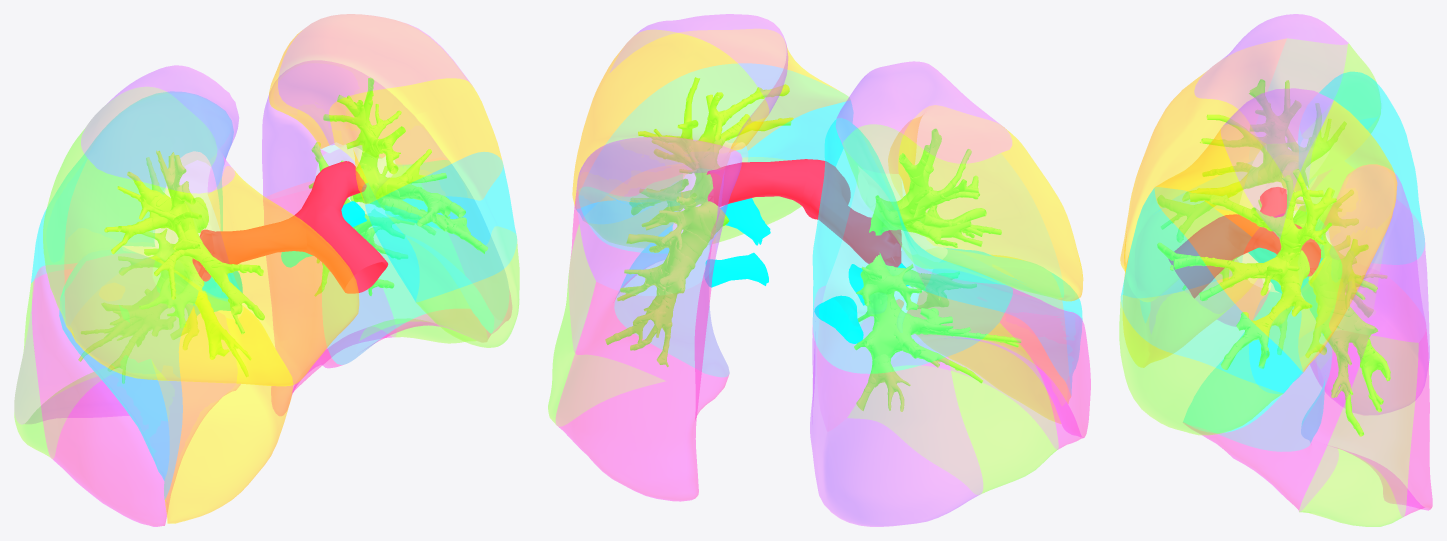
The model's file is lunge-female-mobil.glb.
The picture shows the model from 3 angles, left to right: view 1: azimuth 30°, elevation 25°; view 2: azimuth 150°, elevation 25°; view 3: azimuth 270°, elevation 25°; orthographic projection. The views are drawn at different scales.
Parts seen in each view (by area): view 1: 0:29:VH_F_right_anterior_bronchopulmonary_segm, 0:18:VH_F_right_anterior_basal_bronchopulmonary_segment, 0:26:VH_F_right_medial_bronchopulmonary_segment, 0:25:VH_F_right_lateral_bronchopulmonary_segmennt, 0:22:VH_F_right_superior_bronchopulmonary_segment, 0:9:VH_F_left_anterior_bronchopulmonary_segment, 0:13:VH_F_lingula_superior_bronchopulmonary_segment, 0:30:VH_F_right_apical_bronchopulmonary_segment, 0:11:VH_F_left_posterior_bronchopulmonary_segment, 0:6:VH_F_left_superior_bronchopulmonary_segment, 0:10:VH_F_left_apical_bronchopulmonary_segment, 0:12:VH_F_lingula_inferior_bronchopulmonary_segment (+25 smaller); view 2: 0:22:VH_F_right_superior_bronchopulmonary_segment, 0:5:VH_F_left_posterior_basal_bronchopulmonary_segment, 0:21:VH_F_right_posterior_basal_bronchopulmonary_segment, 0:31:VH_F_right_posterior_bronchopulmonary_segment, 0:6:VH_F_left_superior_bronchopulmonary_segment, 0:19:VH_F_right_lateral_basal_bronchopulmonary_segment, 0:11:VH_F_left_posterior_bronchopulmonary_segment, 0:29:VH_F_right_anterior_bronchopulmonary_segm, 0:9:VH_F_left_anterior_bronchopulmonary_segment, 0:18:VH_F_right_anterior_basal_bronchopulmonary_segment, 0:13:VH_F_lingula_superior_bronchopulmonary_segment, 0:30:VH_F_right_apical_bronchopulmonary_segment (+34 smaller); view 3: 0:9:VH_F_left_anterior_bronchopulmonary_segment, 0:13:VH_F_lingula_superior_bronchopulmonary_segment, 0:12:VH_F_lingula_inferior_bronchopulmonary_segment, 0:5:VH_F_left_posterior_basal_bronchopulmonary_segment, 0:3:VH_F_left_lateral_basal_bronchopulmonary_segment, 0:4:VH_F_left_medial_basal_bronchopulmonary_segment, 0:29:VH_F_right_anterior_bronchopulmonary_segm, 0:11:VH_F_left_posterior_bronchopulmonary_segment, 0:6:VH_F_left_superior_bronchopulmonary_segment, 0:2:VH_F_left_anterior_basal_bronchopulmonary_segment, 0:10:VH_F_left_apical_bronchopulmonary_segment, 0:21:VH_F_right_posterior_basal_bronchopulmonary_segment (+27 smaller).
Boxes of the visible parts, bbox=[...] form: 0:29:VH_F_right_anterior_bronchopulmonary_segm: bbox=[64, 159, 359, 386]; 0:18:VH_F_right_anterior_basal_bronchopulmonary_segment: bbox=[32, 266, 234, 526]; 0:26:VH_F_right_medial_bronchopulmonary_segment: bbox=[158, 292, 293, 523]; 0:25:VH_F_right_lateral_bronchopulmonary_segmennt: bbox=[59, 246, 197, 499]; 0:22:VH_F_right_superior_bronchopulmonary_segment: bbox=[31, 91, 233, 282]; 0:9:VH_F_left_anterior_bronchopulmonary_segment: bbox=[329, 78, 502, 204]; 0:13:VH_F_lingula_superior_bronchopulmonary_segment: bbox=[362, 152, 516, 301]; 0:30:VH_F_right_apical_bronchopulmonary_segment: bbox=[81, 65, 238, 193]; 0:11:VH_F_left_posterior_bronchopulmonary_segment: bbox=[269, 14, 472, 148]; 0:6:VH_F_left_superior_bronchopulmonary_segment: bbox=[262, 60, 447, 198]; 0:10:VH_F_left_apical_bronchopulmonary_segment: bbox=[278, 14, 471, 144]; 0:12:VH_F_lingula_inferior_bronchopulmonary_segment: bbox=[386, 214, 519, 347]; 0:22:VH_F_right_superior_bronchopulmonary_segment: bbox=[812, 118, 1012, 373]; 0:5:VH_F_left_posterior_basal_bronchopulmonary_segment: bbox=[556, 215, 729, 501]; 0:21:VH_F_right_posterior_basal_bronchopulmonary_segment: bbox=[810, 286, 982, 526]; 0:31:VH_F_right_posterior_bronchopulmonary_segment: bbox=[843, 124, 1063, 298]; 0:6:VH_F_left_superior_bronchopulmonary_segment: bbox=[576, 136, 742, 295]; 0:19:VH_F_right_lateral_basal_bronchopulmonary_segment: bbox=[848, 323, 1058, 494]; 0:11:VH_F_left_posterior_bronchopulmonary_segment: bbox=[579, 30, 768, 166]; 0:29:VH_F_right_anterior_bronchopulmonary_segm: bbox=[888, 105, 1083, 301]; 0:9:VH_F_left_anterior_bronchopulmonary_segment: bbox=[572, 29, 848, 205]; 0:18:VH_F_right_anterior_basal_bronchopulmonary_segment: bbox=[891, 266, 1090, 449]; 0:13:VH_F_lingula_superior_bronchopulmonary_segment: bbox=[576, 64, 853, 218]; 0:30:VH_F_right_apical_bronchopulmonary_segment: bbox=[836, 61, 1011, 173]; 0:9:VH_F_left_anterior_bronchopulmonary_segment: bbox=[1154, 125, 1361, 371]; 0:13:VH_F_lingula_superior_bronchopulmonary_segment: bbox=[1121, 187, 1303, 393]; 0:12:VH_F_lingula_inferior_bronchopulmonary_segment: bbox=[1119, 277, 1282, 435]; 0:5:VH_F_left_posterior_basal_bronchopulmonary_segment: bbox=[1313, 268, 1432, 516]; 0:3:VH_F_left_lateral_basal_bronchopulmonary_segment: bbox=[1299, 336, 1418, 526]; 0:4:VH_F_left_medial_basal_bronchopulmonary_segment: bbox=[1183, 245, 1341, 451]; 0:29:VH_F_right_anterior_bronchopulmonary_segm: bbox=[1120, 39, 1286, 301]; 0:11:VH_F_left_posterior_bronchopulmonary_segment: bbox=[1280, 100, 1397, 284]; 0:6:VH_F_left_superior_bronchopulmonary_segment: bbox=[1322, 164, 1425, 342]; 0:2:VH_F_left_anterior_basal_bronchopulmonary_segment: bbox=[1184, 330, 1368, 511]; 0:10:VH_F_left_apical_bronchopulmonary_segment: bbox=[1221, 88, 1333, 238]; 0:21:VH_F_right_posterior_basal_bronchopulmonary_segment: bbox=[1320, 213, 1429, 415].
Bounding box in the file's own units: 0.2511 × 0.223 × 0.1526.
